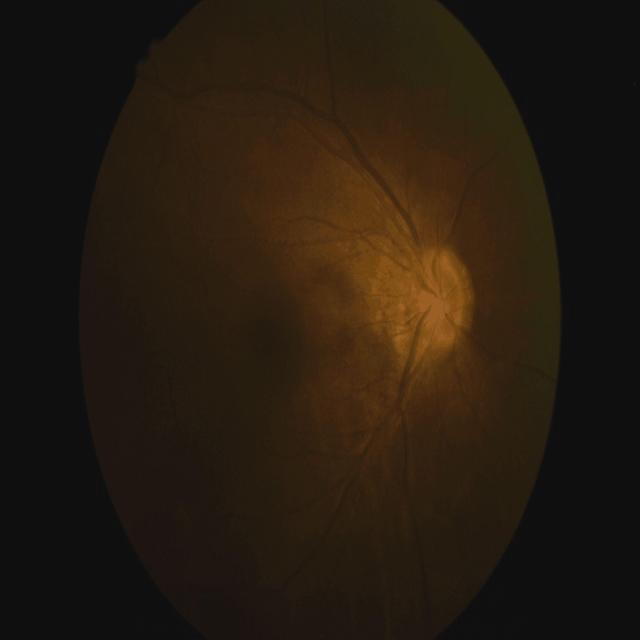cup: (431, 286, 447, 320)
disk: (416, 253, 467, 344)
